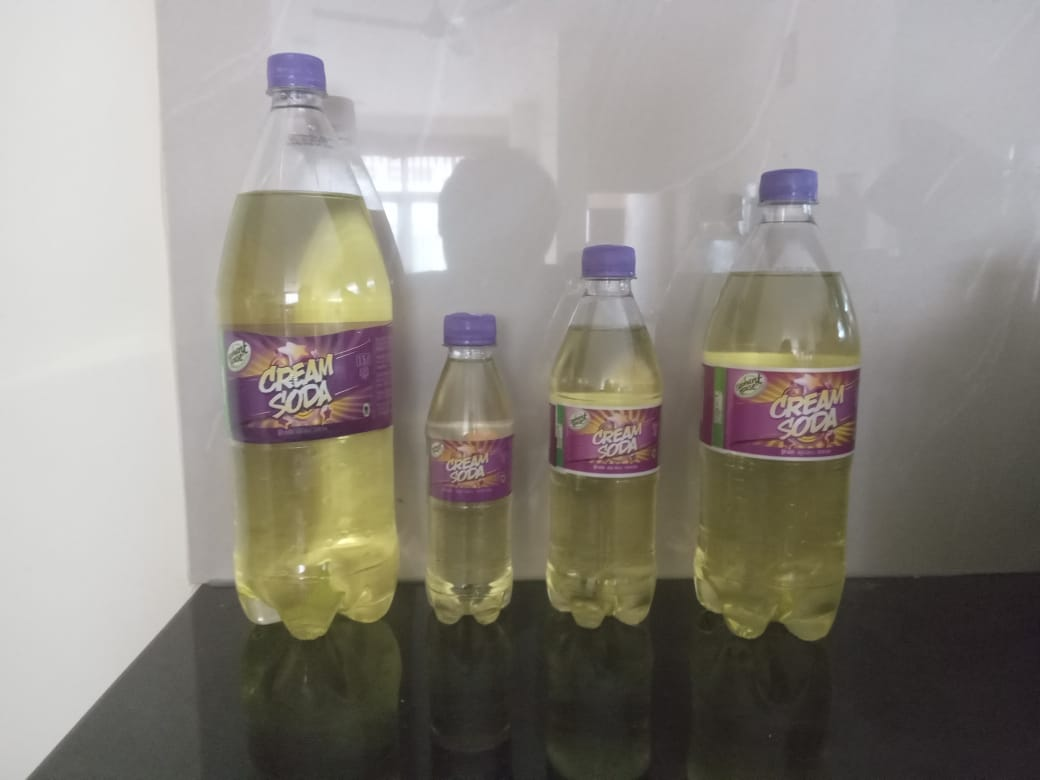L: (205, 48, 408, 642)
M: (696, 166, 867, 649)
S: (540, 234, 664, 631)
Xs: (419, 309, 522, 631)
